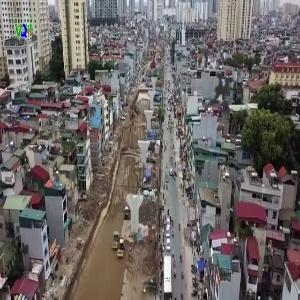drone: (183, 49, 265, 131)
